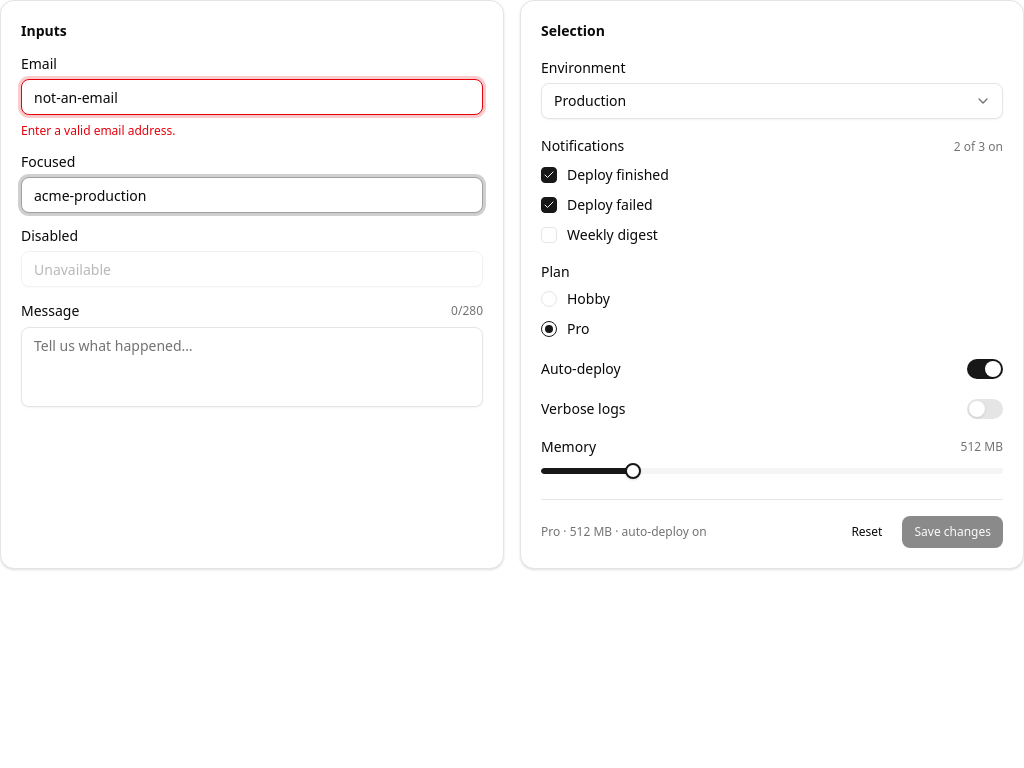
it: the forms section › blocks the save while the form is invalid
Expected: the button "Save changes" is disabled, x1=902 y1=516 x2=1003 y2=548
Replace the text in the field labelled "Email" with "you@example.com": (252,97) x1=21 y1=79 x2=483 y2=115
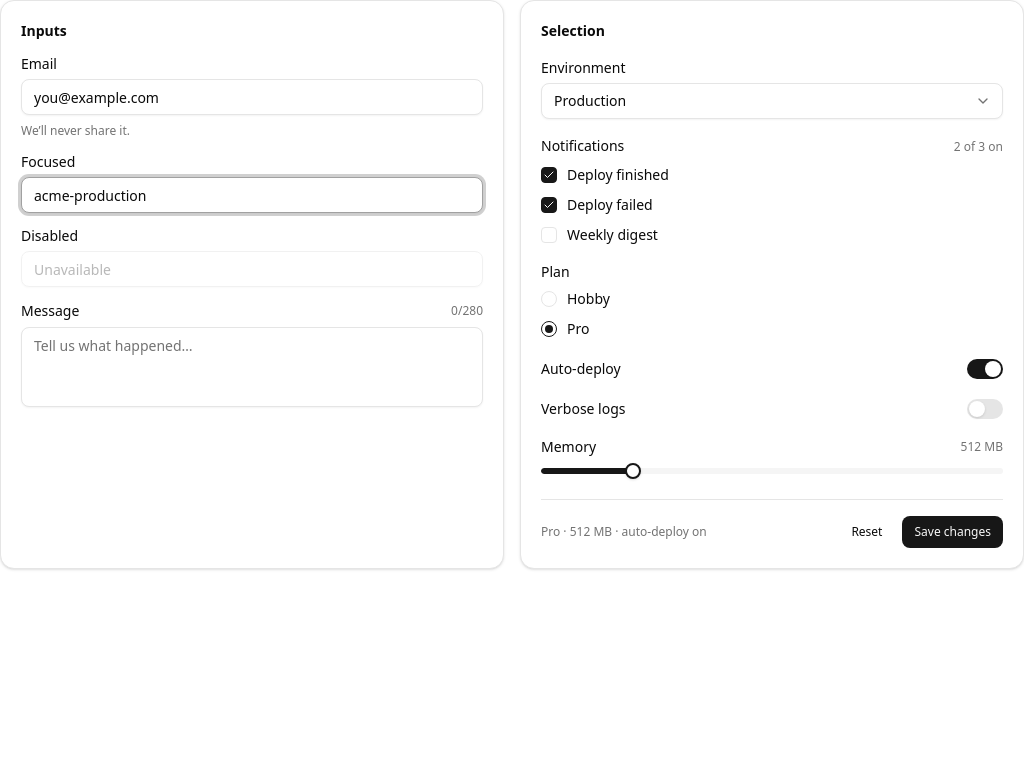
Now the button "Save changes" is enabled
Click the button "Save changes": (953,532) x1=902 y1=516 x2=1003 y2=548
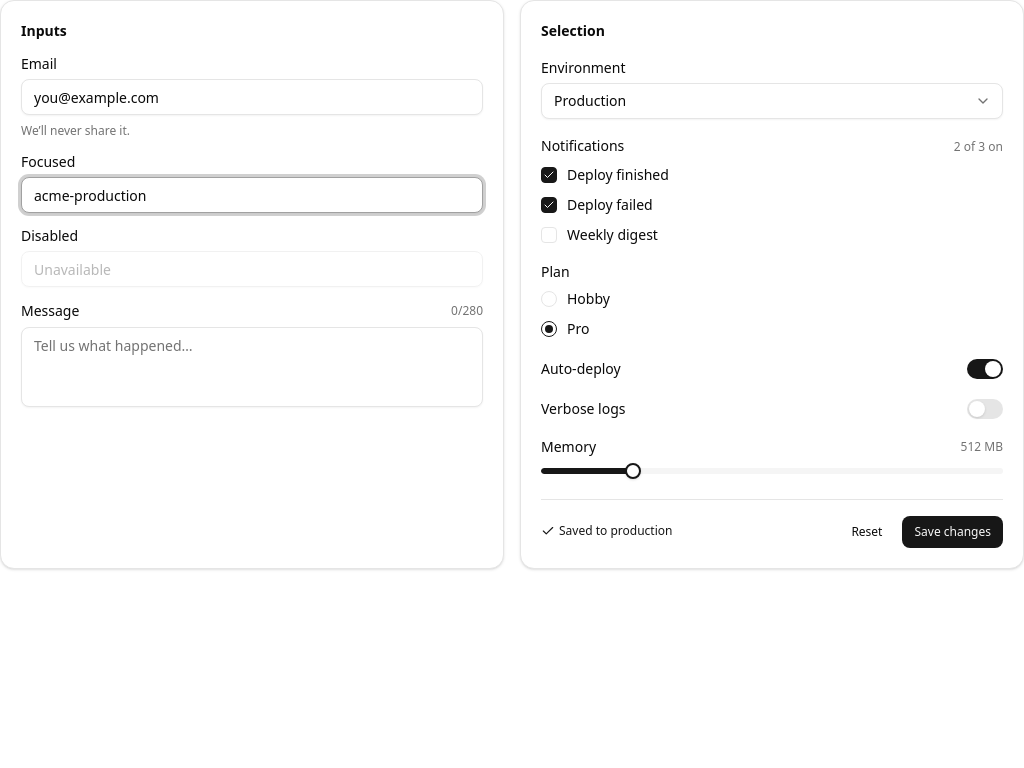
Now the text "Saved to production" is shown, box x1=541 y1=522 x2=672 y2=538
